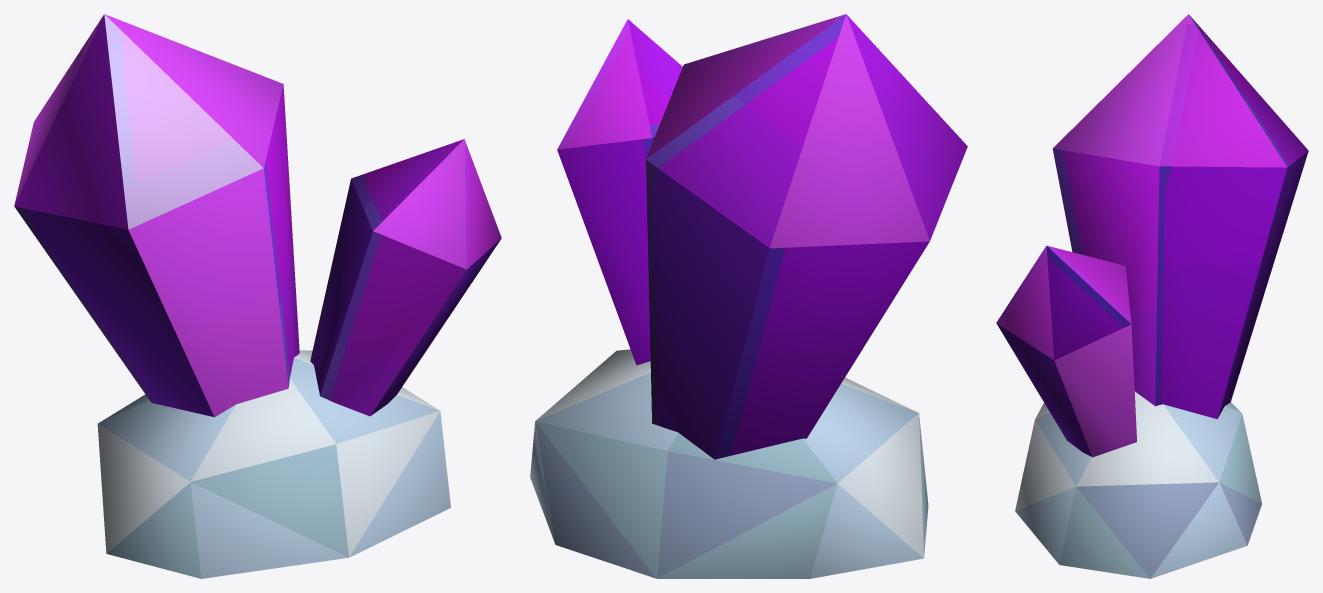
The model's file is fg_amethyst.dae.
3 renders of one model, left to right at view 1: azimuth 30°, elevation 25°; view 2: azimuth 150°, elevation 25°; view 3: azimuth 270°, elevation 25°, orthographic. The views are drawn at different scales.
Parts seen in each view (by area): view 1: fg_amethyst; view 2: fg_amethyst; view 3: fg_amethyst.
Boxes of the visible parts, box(x1,y1,x2,y2) form: fg_amethyst: box(14, 14, 501, 578); fg_amethyst: box(530, 14, 967, 578); fg_amethyst: box(996, 14, 1308, 578).
Size of the model in its own units: 12.78 by 15.34 by 9.96.
1 material, 1 textured.
